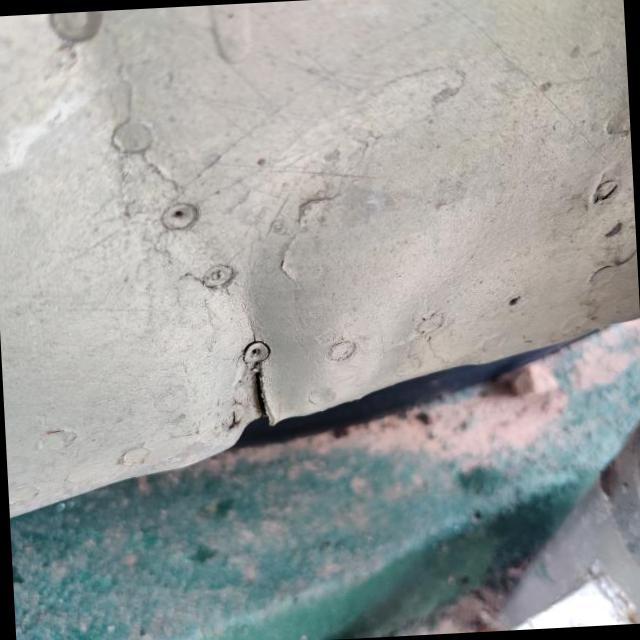Crack: (240, 342, 284, 444)
